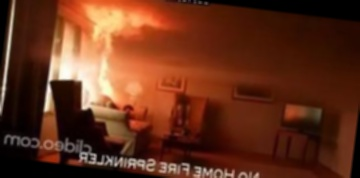fire: (54, 0, 186, 124)
